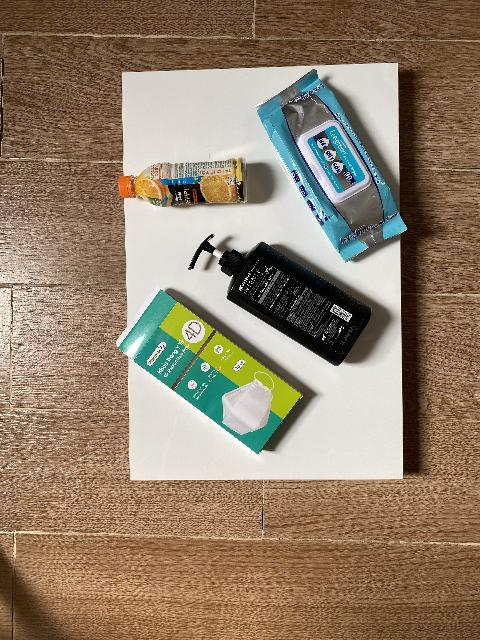4D_medical_face-mask: (116, 286, 303, 456)
Let-green_alcohol_wipes: (254, 69, 408, 263)
X-men: (187, 233, 372, 366)
teppy_orange_juice: (118, 158, 248, 208)
